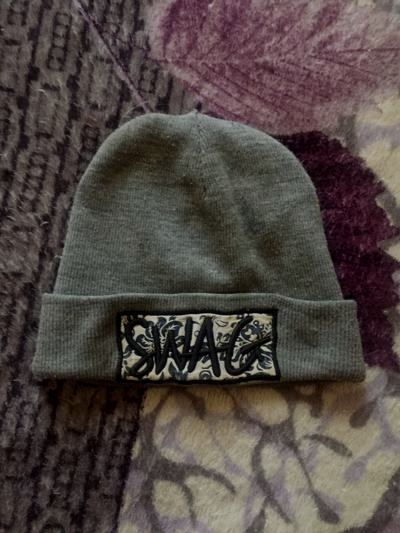Hat: (45, 98, 376, 414)
